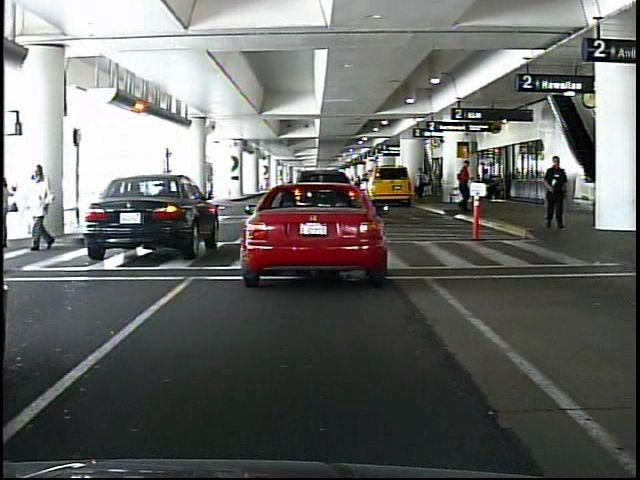person: (25, 159, 57, 254), (542, 152, 567, 231), (454, 159, 473, 216), (5, 175, 16, 247), (414, 166, 427, 202)
